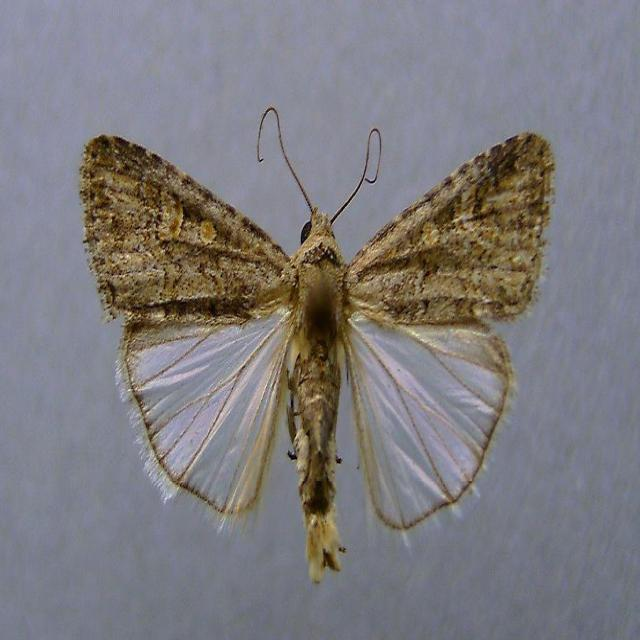armyworm: (80, 107, 548, 578)
